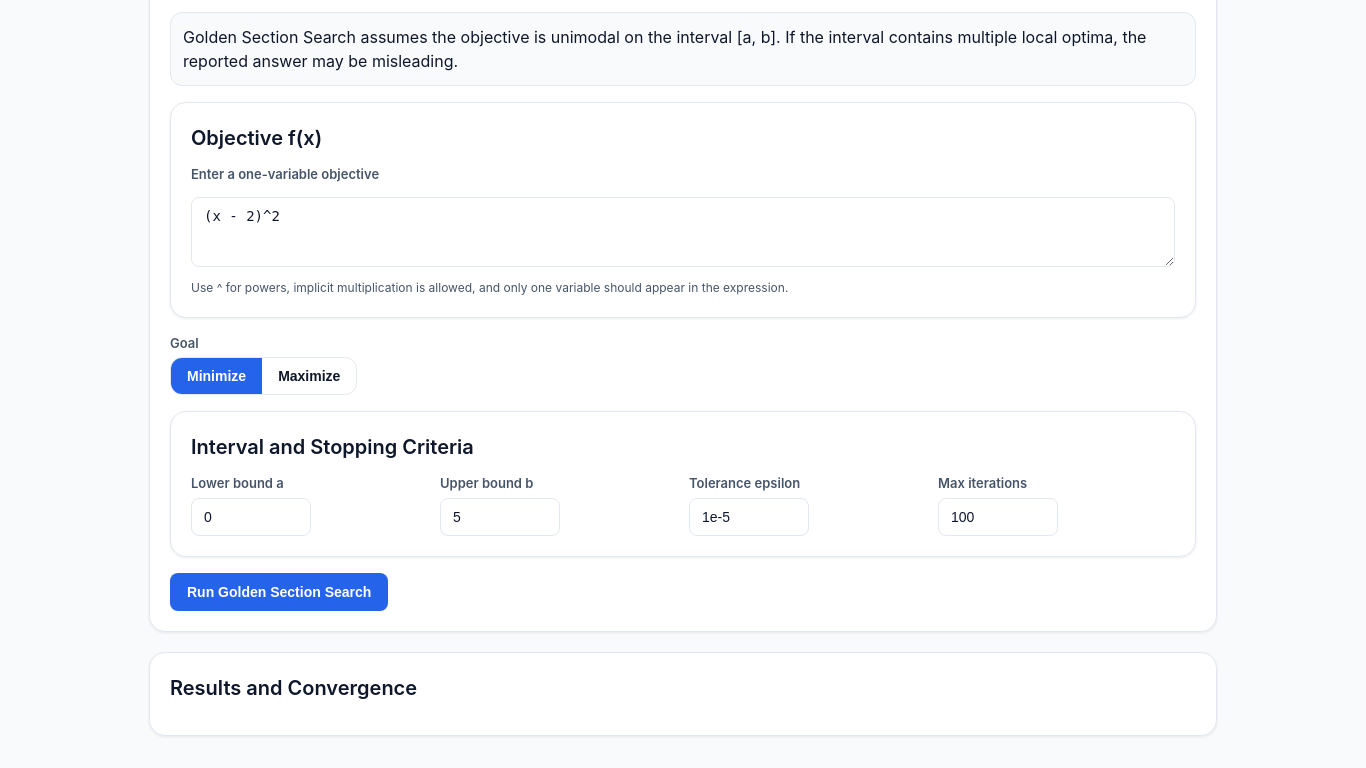
Test: GSSWorkspace › submits golden section search and renders the summary
(page scrolled)
Click the button "Run Golden Section Search".
click(279, 592)  # box [170,572,388,610]
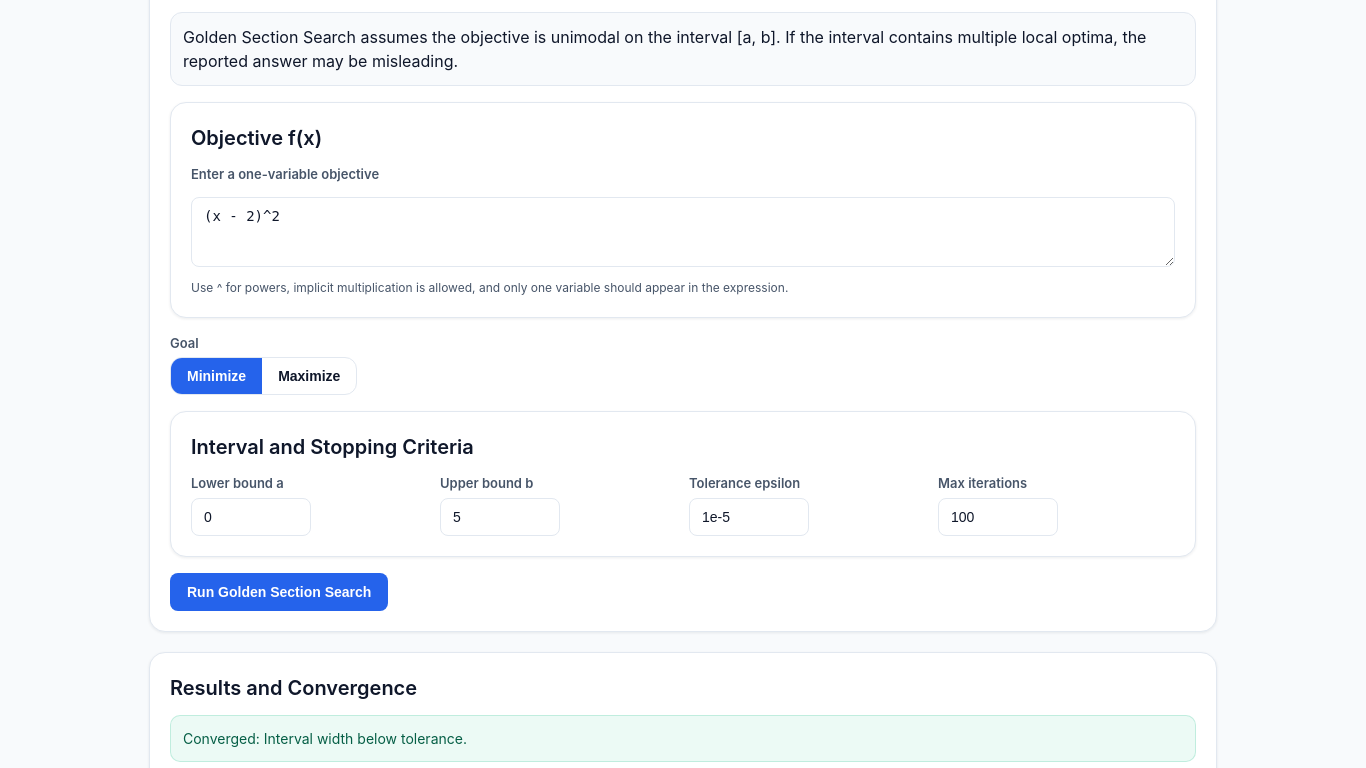
Expected: the text "Converged: Interval width below tolerance." is shown, [170,714,1196,762]
